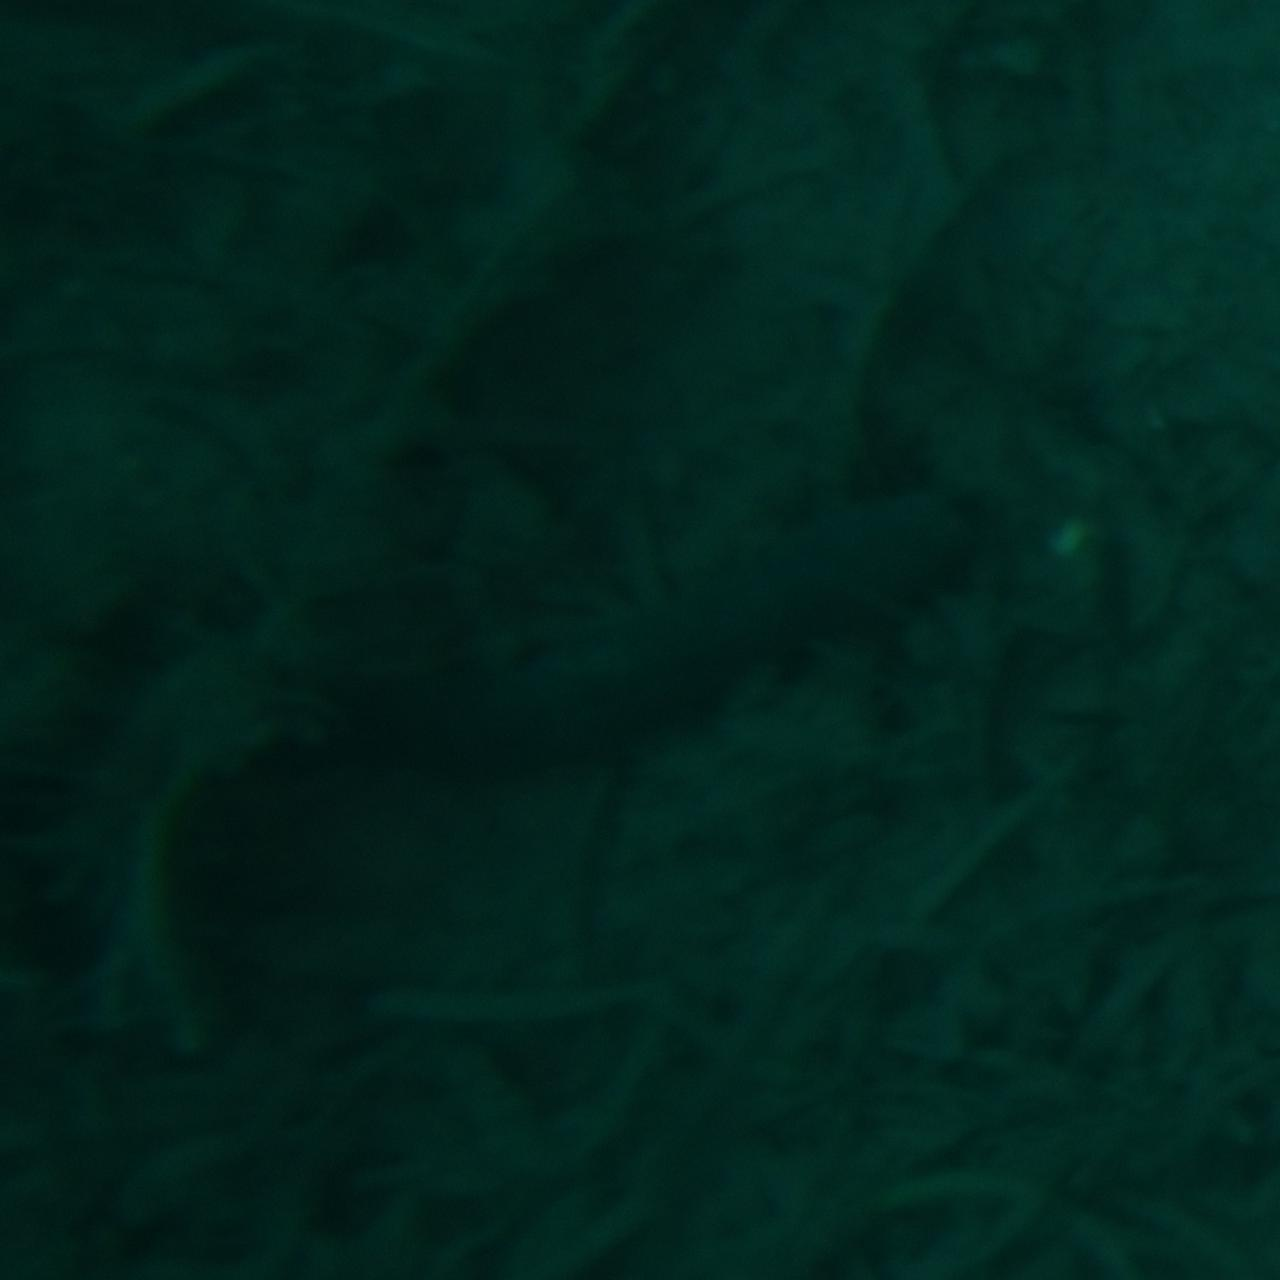Holothuria tubulosa: (316, 480, 964, 800)
